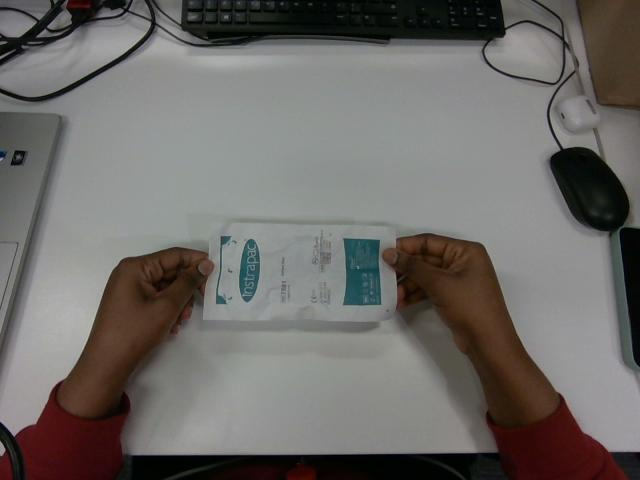gallipot: (204, 223, 396, 321)
